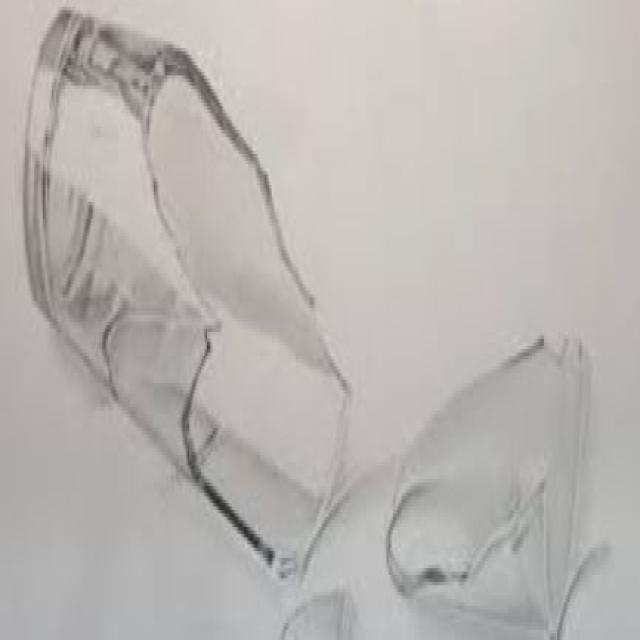electronic: (21, 2, 353, 580)
